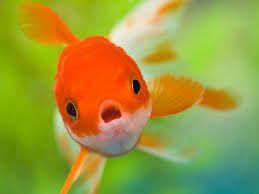Gold Fish: (14, 0, 241, 194)
